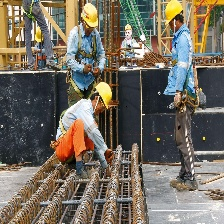helmet: (82, 2, 100, 31), (97, 83, 113, 111), (163, 3, 183, 24)
person: (163, 1, 200, 191), (55, 82, 119, 177), (65, 1, 103, 102)
